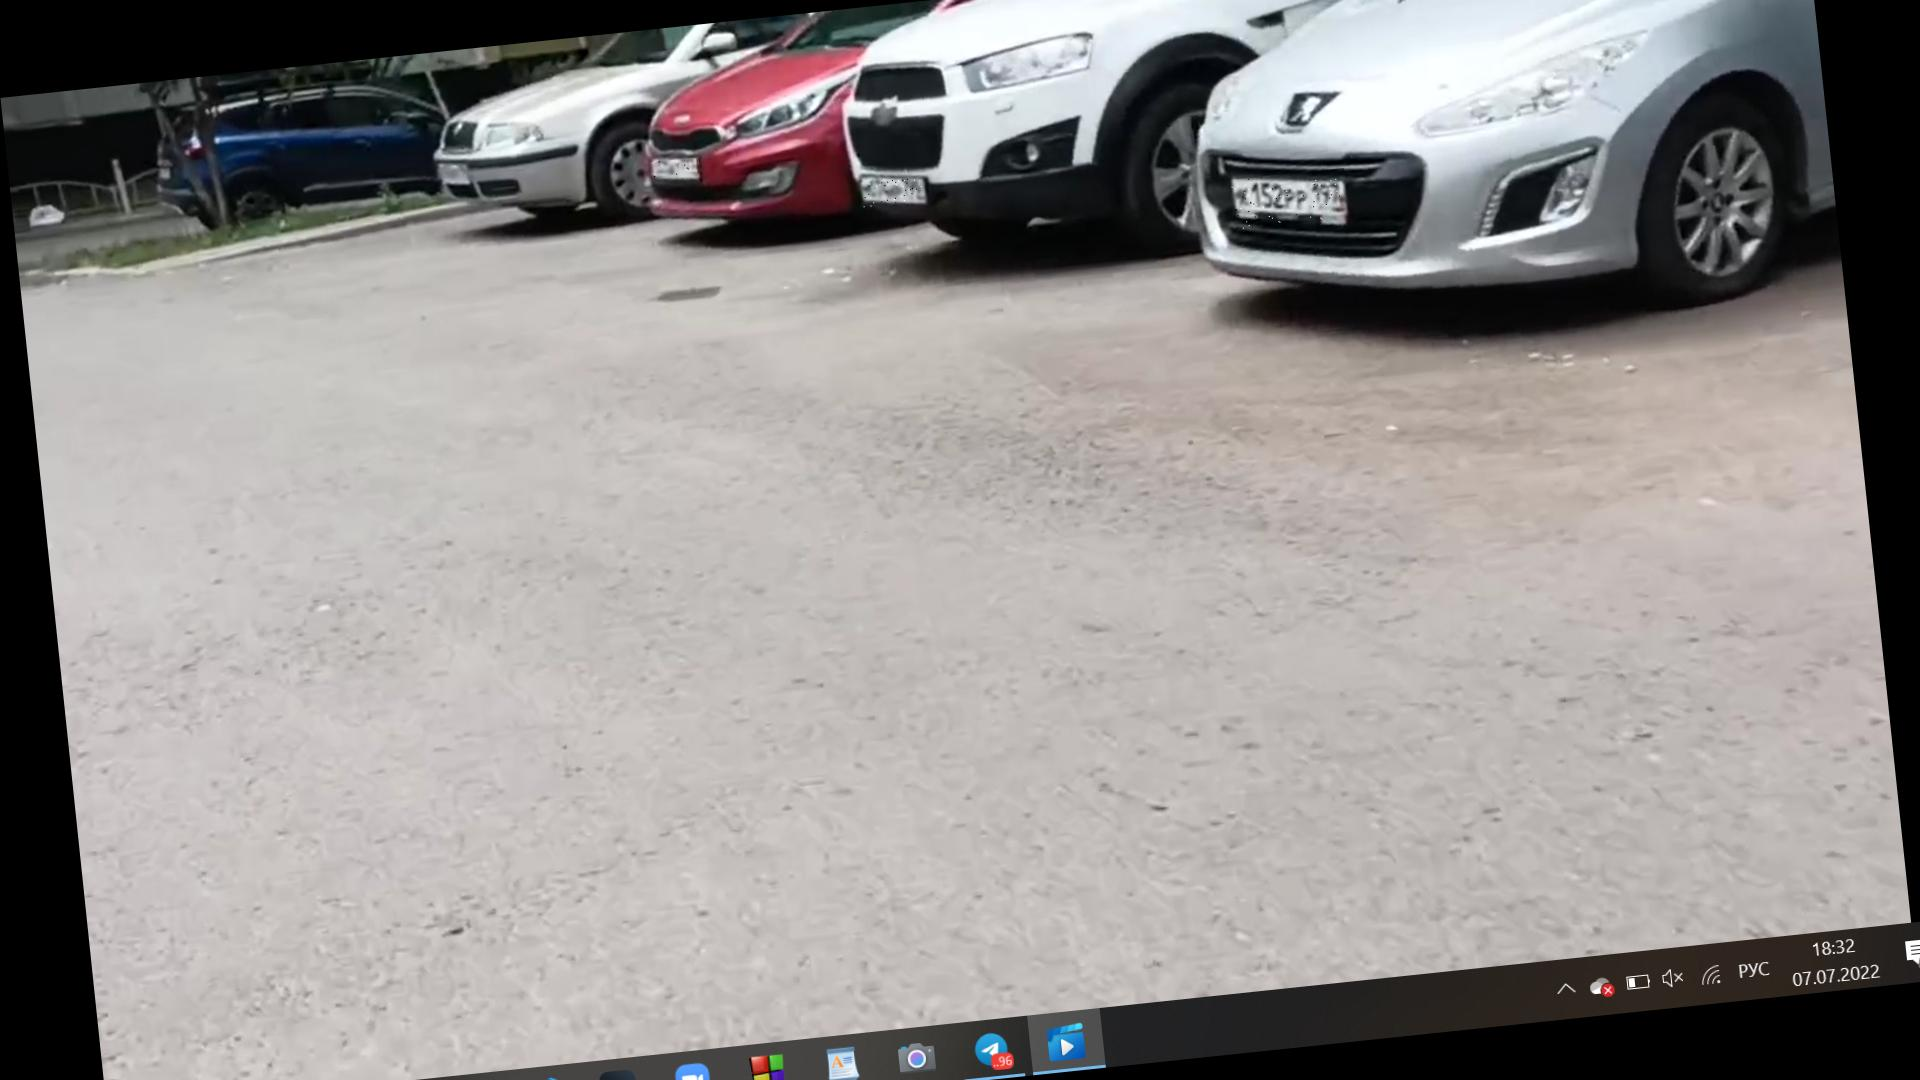plate: (1233, 170, 1351, 232), (861, 178, 925, 209), (650, 159, 702, 181)
